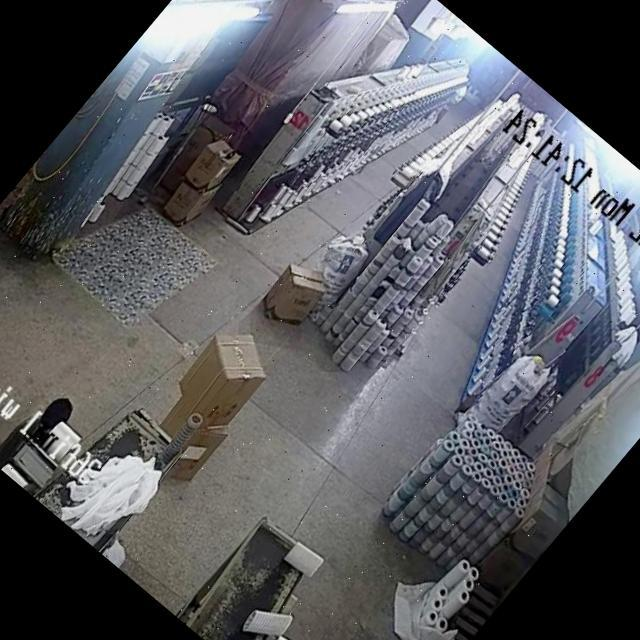person: (0, 380, 83, 479)
